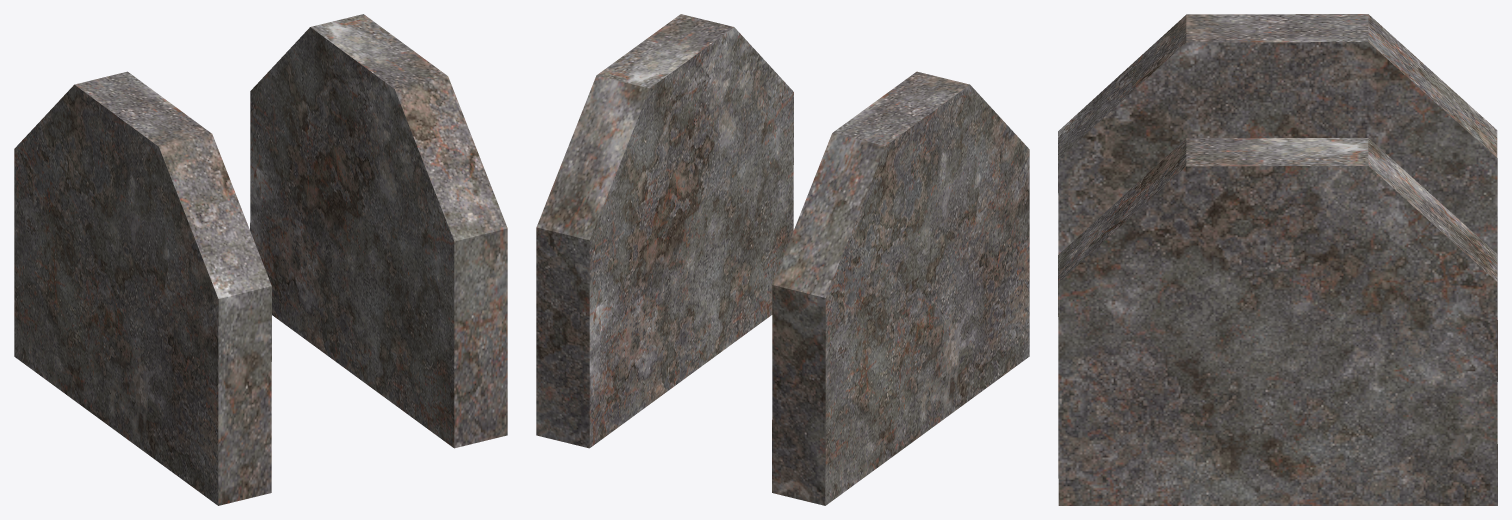
Rendered from LeverBase.fbx.
3 views of the same model, side by side, from view 1: azimuth 30°, elevation 25°; view 2: azimuth 150°, elevation 25°; view 3: azimuth 270°, elevation 25° (orthographic). The views are drawn at different scales.
Parts seen in each view (by area): view 1: LeverBase; view 2: LeverBase; view 3: LeverBase.
Boxes of the visible parts, x1,y1,x2,y2 form: LeverBase: (14, 14, 507, 505); LeverBase: (536, 14, 1029, 505); LeverBase: (1058, 14, 1497, 505).
Size of the model in its own units: 17.7 by 18.48 by 21.66.
1 material, 1 textured.
